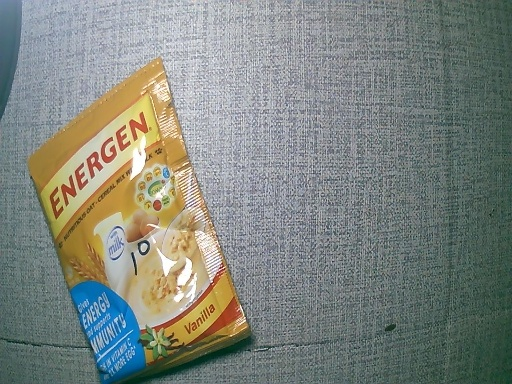plastic: (29, 60, 252, 384)
